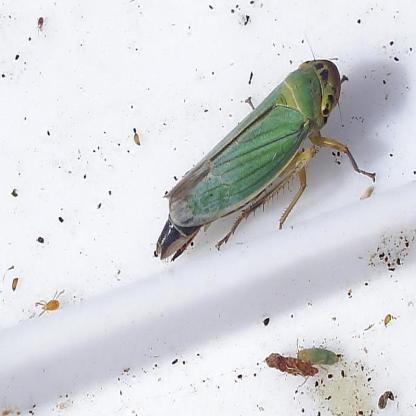Green-Leafhopper: (148, 43, 378, 269)
